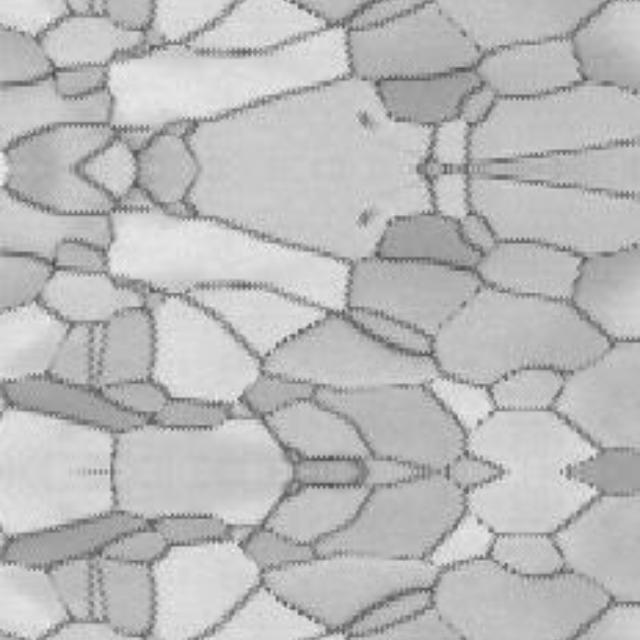good_void: (355, 208, 376, 228), (355, 108, 376, 128)
